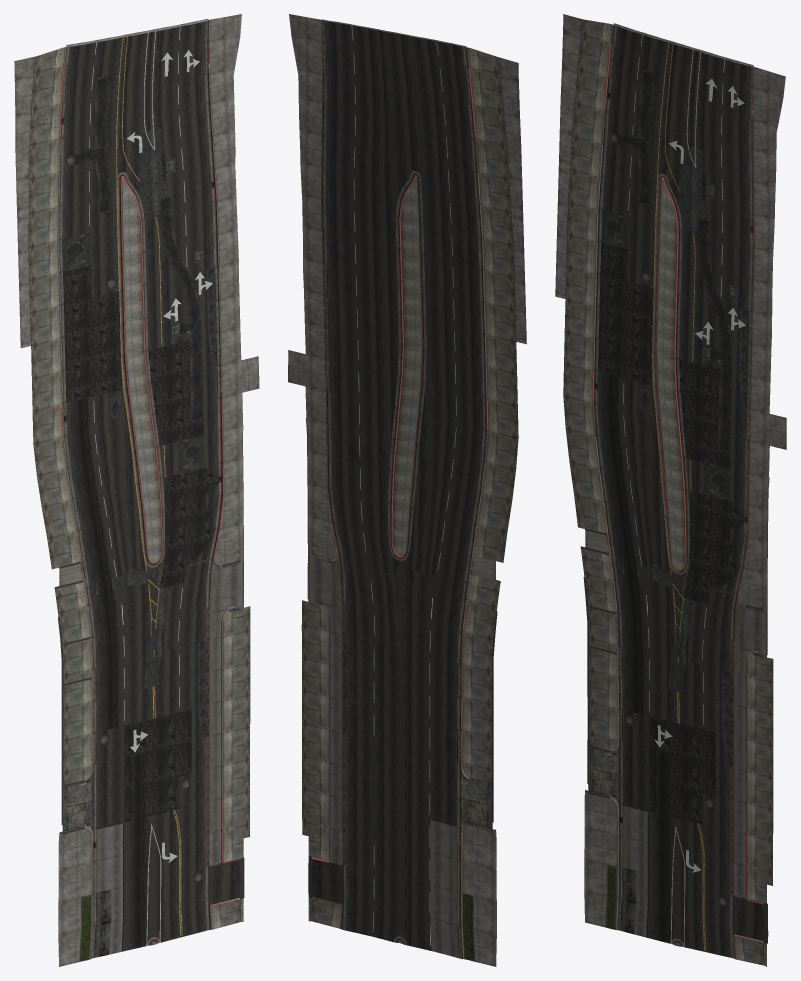
3 renders of one model, left to right at view 1: azimuth 30°, elevation 25°; view 2: azimuth 150°, elevation 25°; view 3: azimuth 330°, elevation 25°, orthographic. The views are drawn at different scales.
Visible parts, largest first — view 1: sc1_rd_r1_02; view 2: sc1_rd_r1_02; view 3: sc1_rd_r1_02.
Part boxes in pixels (x1,y1,x2,y2): sc1_rd_r1_02: [14, 14, 259, 966]; sc1_rd_r1_02: [288, 14, 526, 966]; sc1_rd_r1_02: [555, 14, 786, 966].
Size of the model in its own units: 4623 by 16970 by 403.
